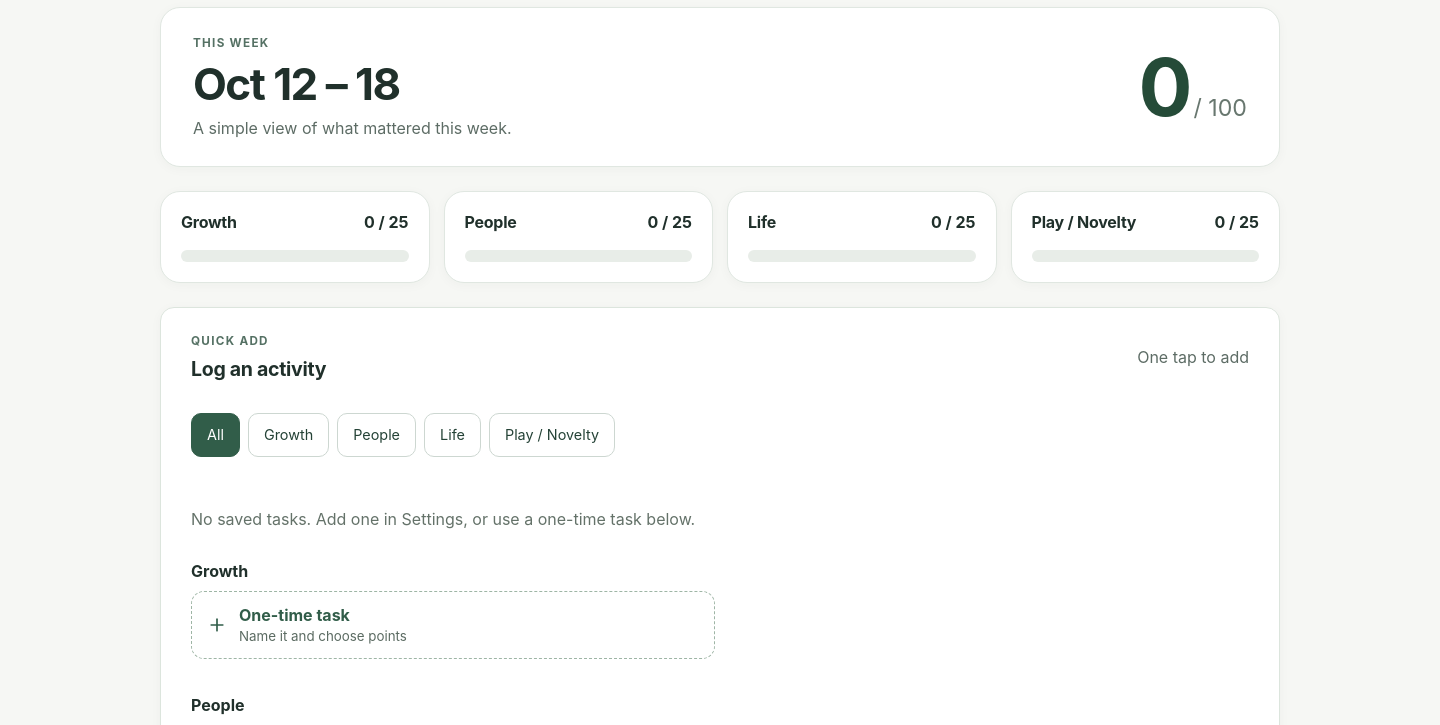
Test: dashboard › logs a one-time task without adding a saved quick-add task
The image size is (1440, 725).
Click the button with aria-label "Add one-time task in Growth": {"x": 294, "y": 615} [191,591,715,659]
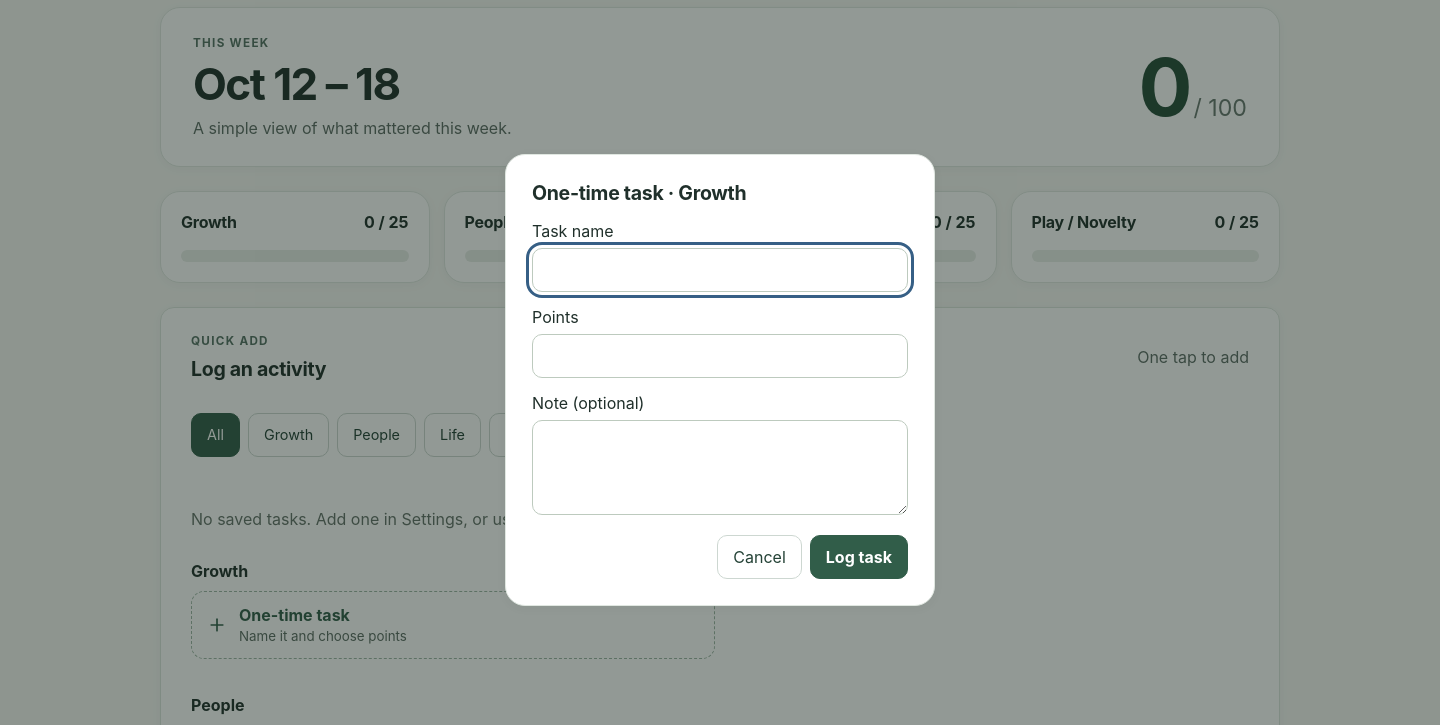
In the field labelled "Task name": {"x": 720, "y": 270} [532,248,908,292], type "Special workshop"
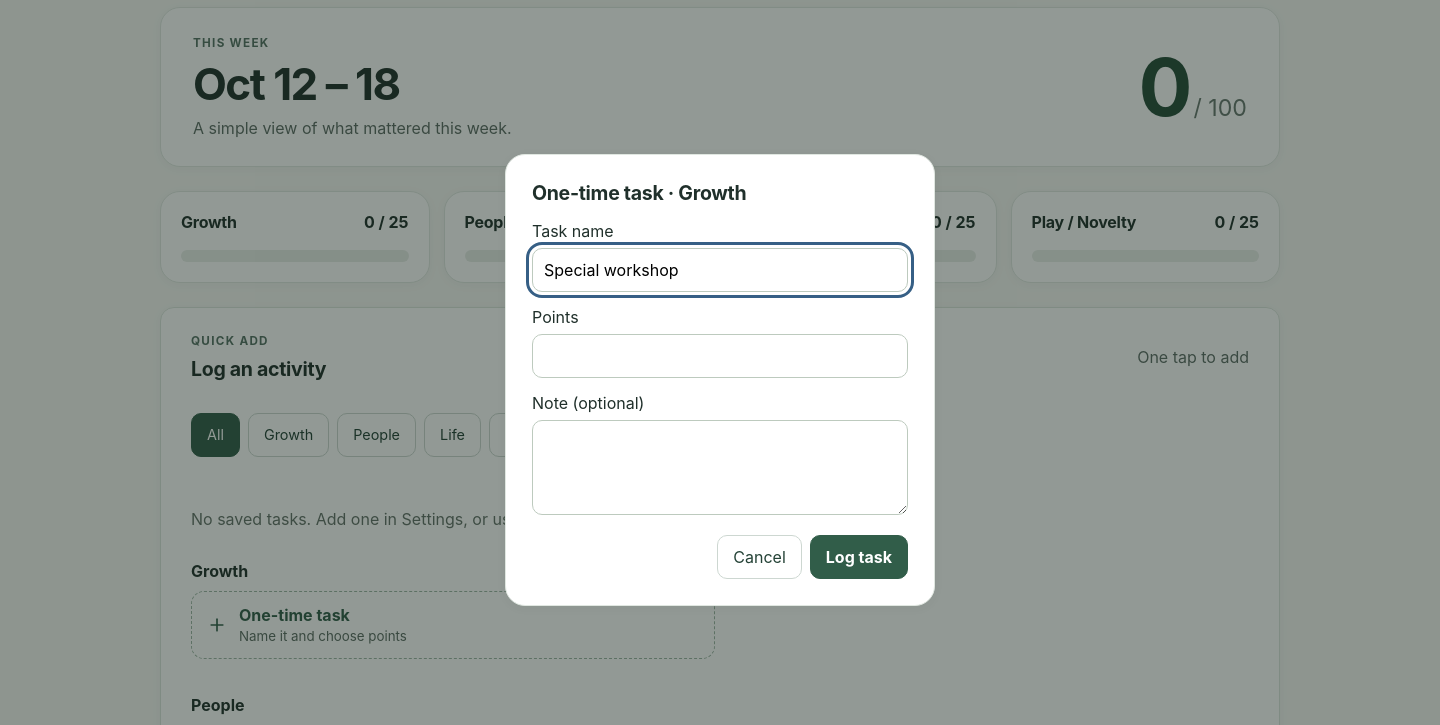
In the number field labelled "Points": {"x": 720, "y": 356} [532,334,908,378], type "7.5"
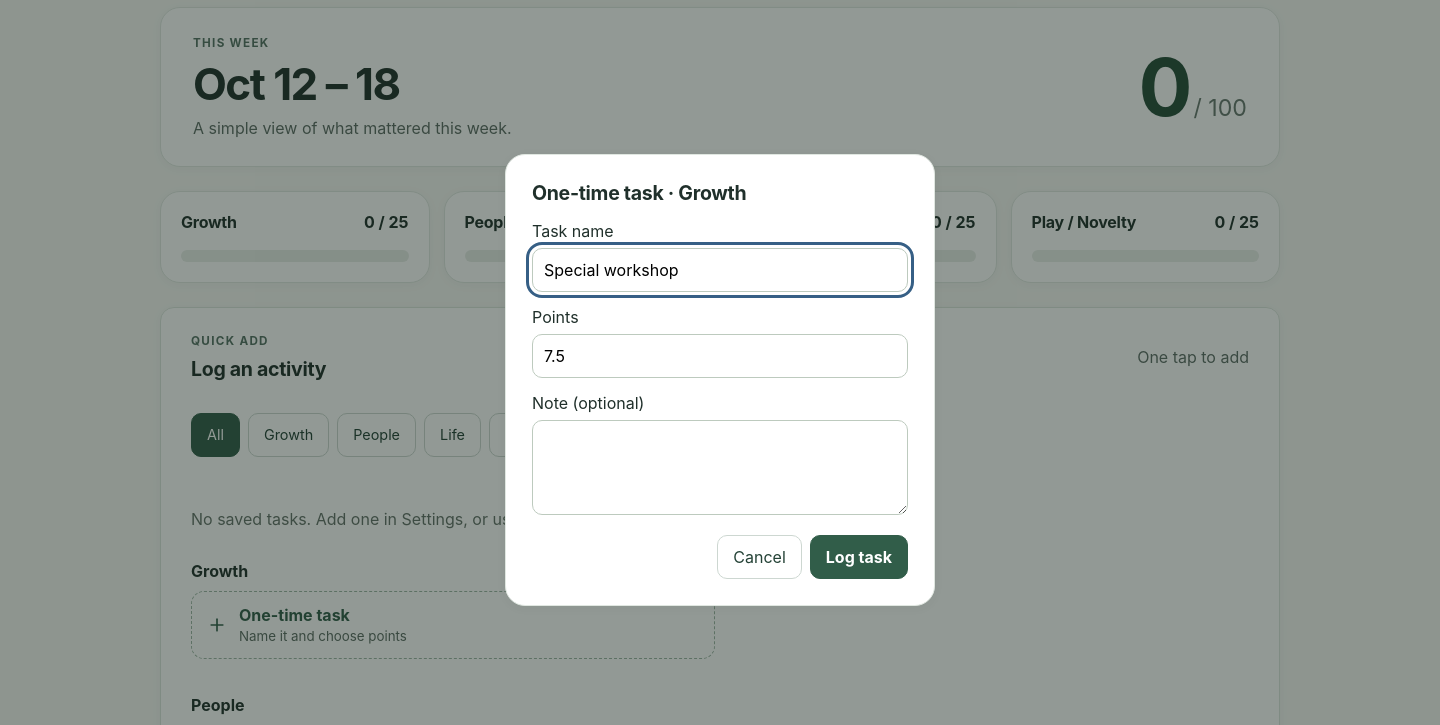
In the text box labelled "Note (optional)": {"x": 720, "y": 468} [532,420,908,515], type "First visit"
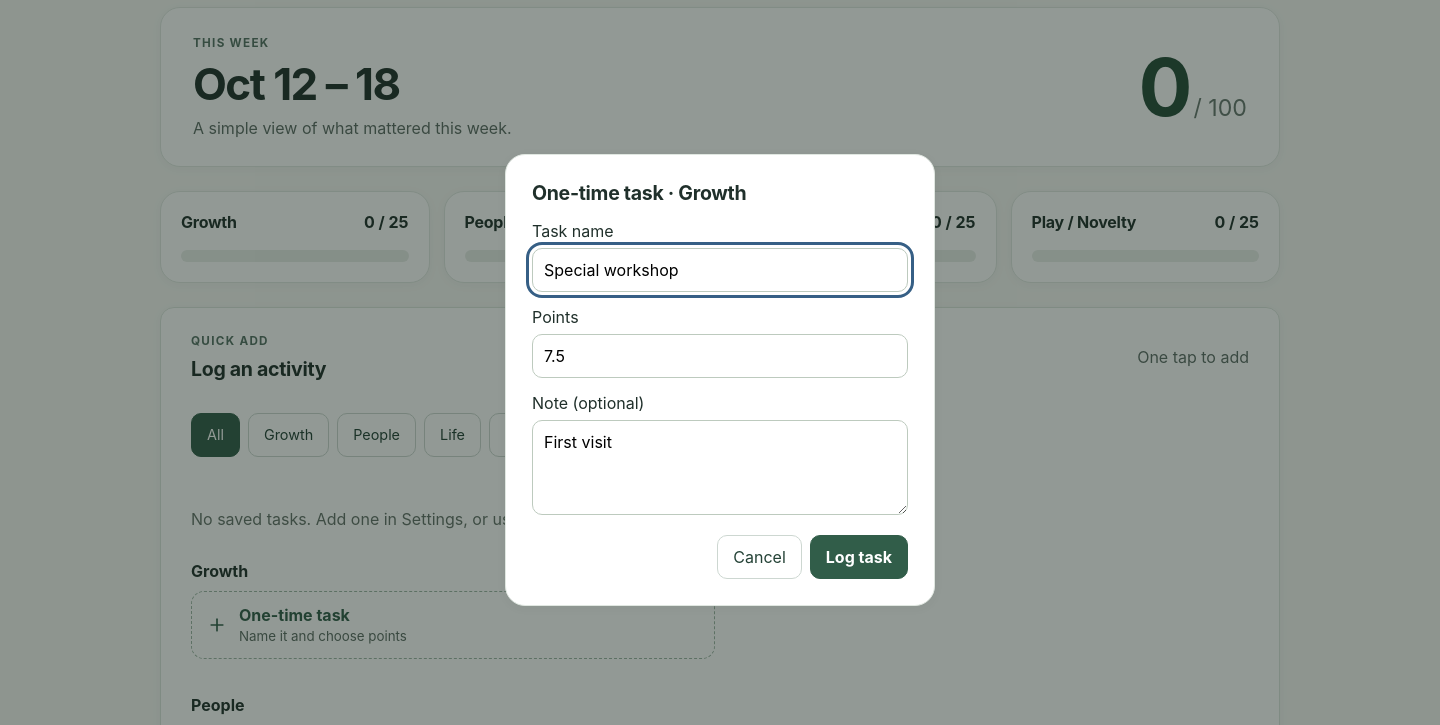
Click the button "Log task": {"x": 859, "y": 557} [810,535,908,579]
(page scrolled)
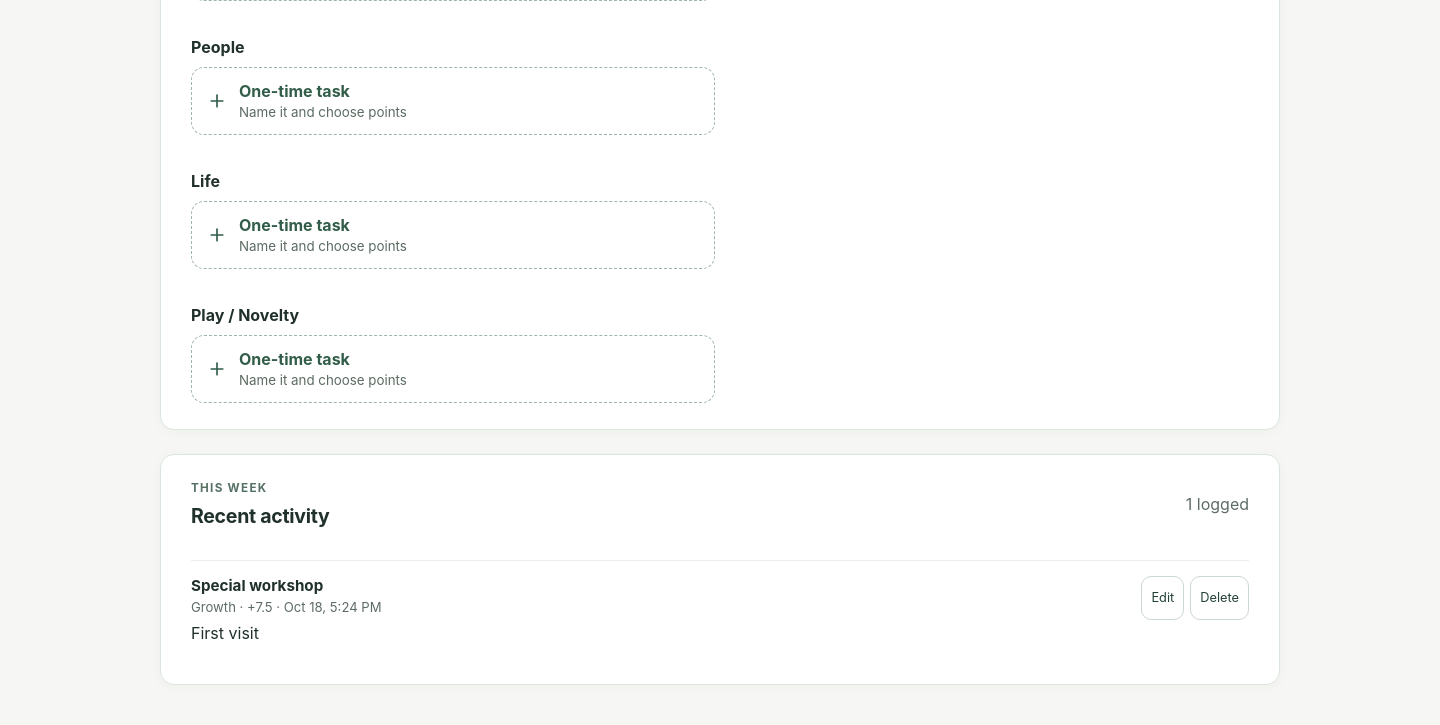
Now the text "Special workshop" is shown, box [191,576,323,595]
Now the text "First visit" is shown, box [191,623,259,643]
